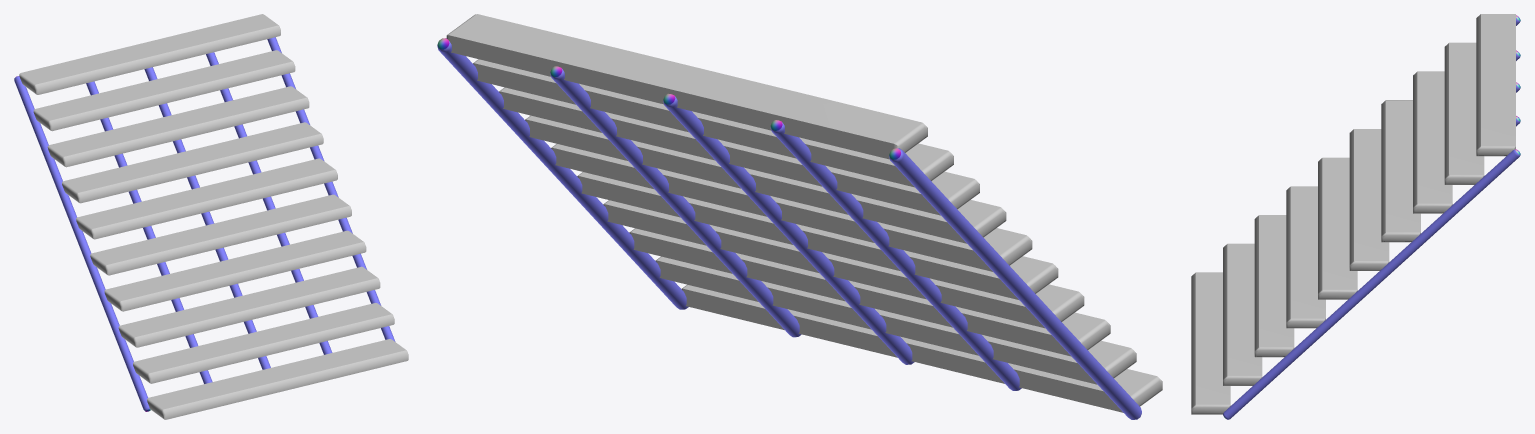
The model's file is sm_stairs_01.fbx.
3 renders of one model, left to right at view 1: azimuth 30°, elevation 25°; view 2: azimuth 150°, elevation 25°; view 3: azimuth 270°, elevation 25°, orthographic. The views are drawn at different scales.
Parts seen in each view (by area): view 1: sm_stairs_01; view 2: sm_stairs_01; view 3: sm_stairs_01.
Part boxes in pixels (left/top/right/bottom): sm_stairs_01: left=14, top=14, right=408, bottom=419; sm_stairs_01: left=437, top=14, right=1162, bottom=419; sm_stairs_01: left=1191, top=14, right=1520, bottom=419.
Bounding box in the file's own units: 412 × 380 × 416.
